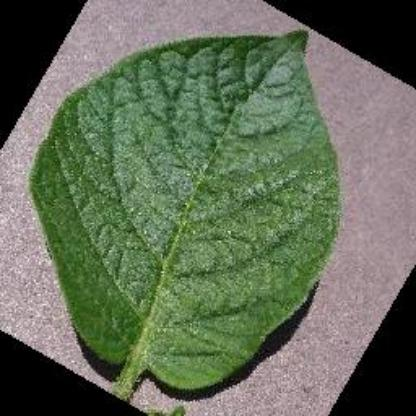Healthy-plant: (12, 22, 336, 382)
